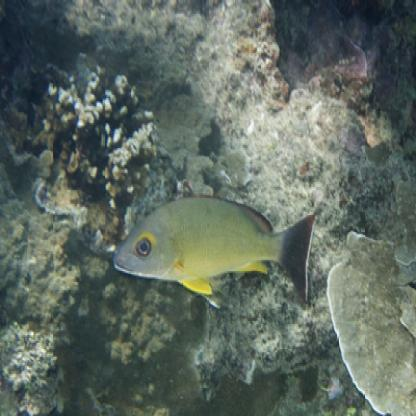Lutjanidae -Snappers-: (104, 188, 320, 308)
